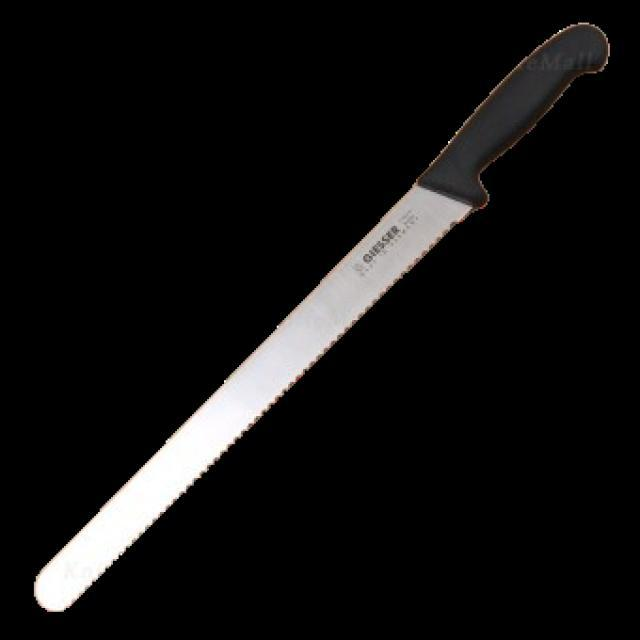knife: (33, 20, 616, 620)
